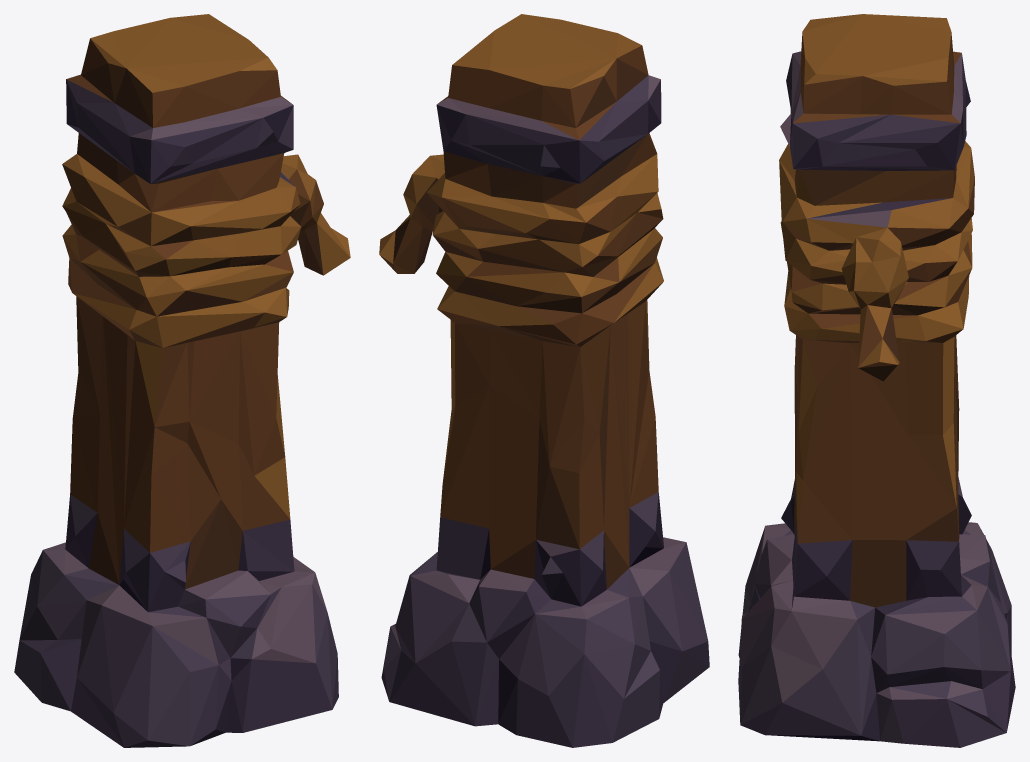
The model's file is bridge-post.glb.
3 renders of one model, left to right at view 1: azimuth 30°, elevation 25°; view 2: azimuth 150°, elevation 25°; view 3: azimuth 270°, elevation 25°, orthographic.
Parts seen in each view (by area): view 1: bridge-post; view 2: bridge-post; view 3: bridge-post.
Part boxes in pixels (x1=…): bridge-post: x1=14, y1=14, x2=350, y2=747; bridge-post: x1=379, y1=14, x2=709, y2=747; bridge-post: x1=738, y1=14, x2=1015, y2=747.
Size of the model in its own units: 0.7762 by 1.6 by 0.6259.
